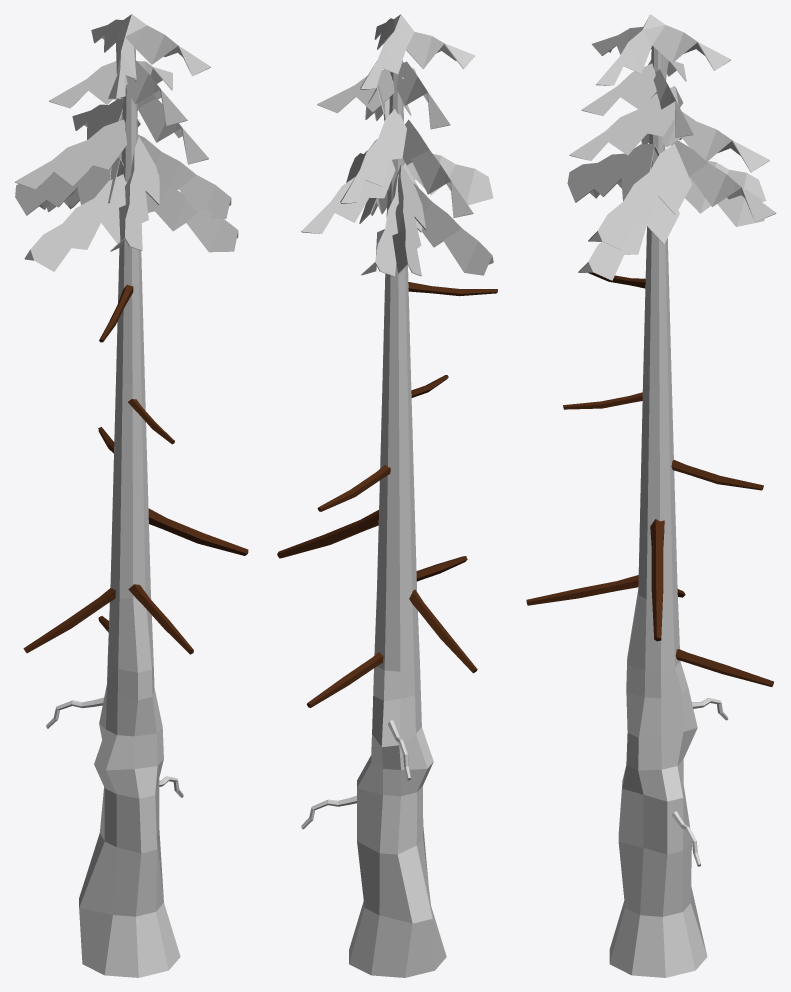
Rendered from 3_pines.fbx.
The picture shows the model from 3 angles, left to right: view 1: azimuth 30°, elevation 25°; view 2: azimuth 150°, elevation 25°; view 3: azimuth 270°, elevation 25°; orthographic projection.
Visible parts, largest first — view 1: Tree Type0 03 Model.008, Tree Type0 03 Model.006; view 2: Tree Type0 03 Model.008, Tree Type0 03 Model.006; view 3: Tree Type0 03 Model.008, Tree Type0 03 Model.006.
Boxes of the visible parts, left/top/right/bottom form: Tree Type0 03 Model.008: left=23, top=47, right=248, bottom=977; Tree Type0 03 Model.006: left=15, top=14, right=238, bottom=271; Tree Type0 03 Model.008: left=277, top=62, right=497, bottom=977; Tree Type0 03 Model.006: left=301, top=14, right=493, bottom=279; Tree Type0 03 Model.008: left=526, top=46, right=773, bottom=977; Tree Type0 03 Model.006: left=567, top=14, right=776, bottom=280.
Bounding box in the file's own units: 203 × 847 × 204.
